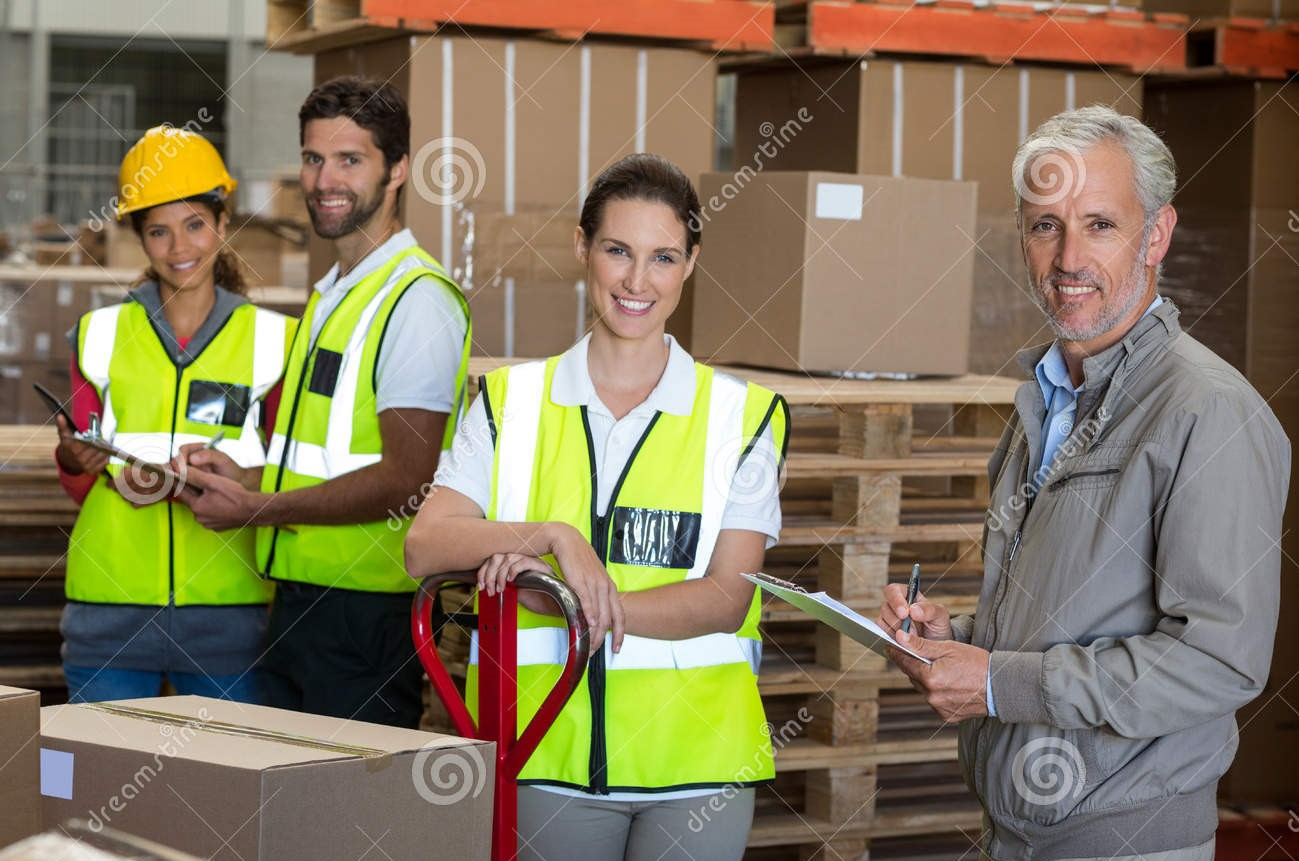epi: (45, 119, 288, 698)
noepi: (405, 151, 797, 861), (925, 106, 1281, 861), (261, 71, 491, 755)
